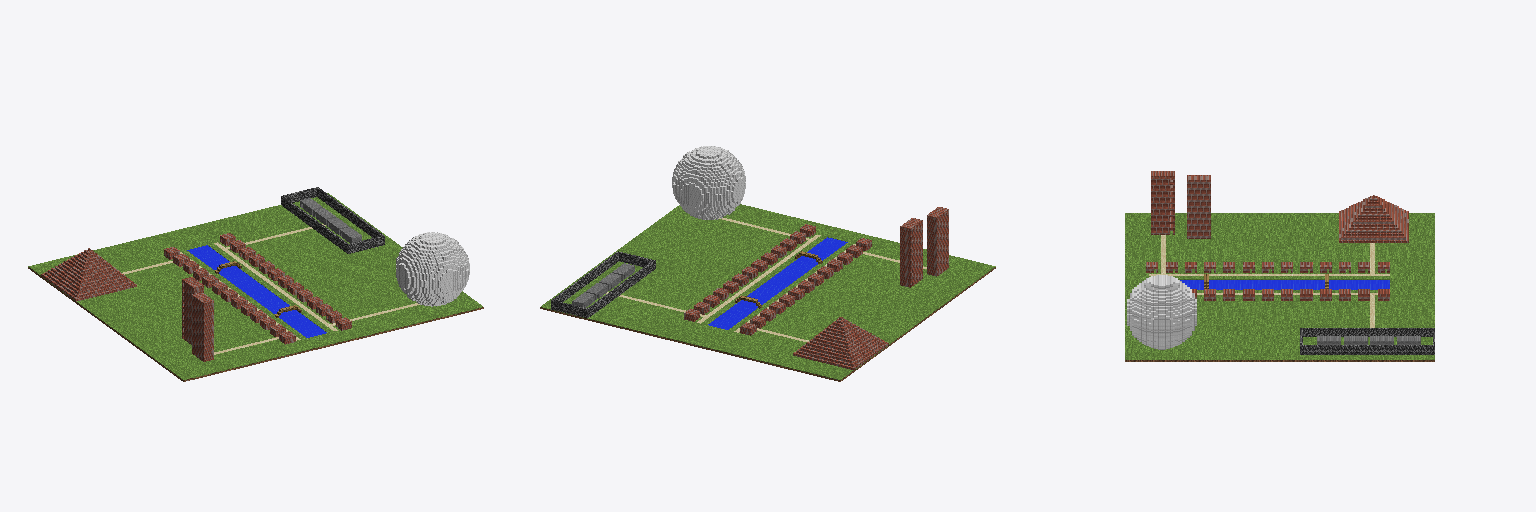
The picture shows the model from 3 angles: view 1: azimuth 30°, elevation 25°; view 2: azimuth 150°, elevation 25°; view 3: azimuth 270°, elevation 25°; orthographic projection.
Parts seen in each view (by area): view 1: scene_0_30.schematic__0_0_0_to_143_255_128; view 2: scene_0_30.schematic__0_0_0_to_143_255_128; view 3: scene_0_30.schematic__0_0_0_to_143_255_128.
Part boxes in pixels (bbox=[...]): scene_0_30.schematic__0_0_0_to_143_255_128: bbox=[28, 187, 483, 381]; scene_0_30.schematic__0_0_0_to_143_255_128: bbox=[540, 146, 995, 381]; scene_0_30.schematic__0_0_0_to_143_255_128: bbox=[1125, 171, 1434, 361].
Bounding box in the file's own units: 144 × 30 × 129.
9 materials, 2 textured.